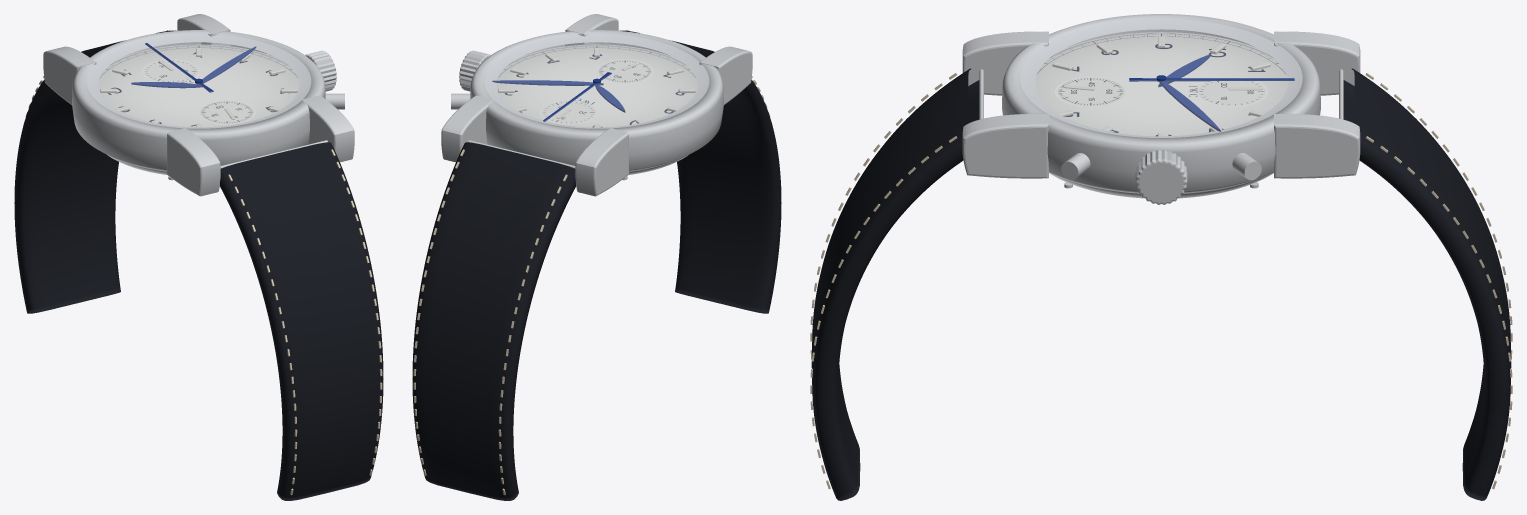
File: iwc-portugieser-chronograph.glb
3 views of the same model, side by side, from view 1: azimuth 30°, elevation 25°; view 2: azimuth 150°, elevation 25°; view 3: azimuth 270°, elevation 25° (orthographic). The views are drawn at different scales.
Visible parts, largest first — view 1: Ремешок 6 часов, Корпус, Ремешок 12 часов, Стекло, Циферблат, Головка; view 2: Ремешок 12 часов, Корпус, Ремешок 6 часов, Стекло, Циферблат, Головка, Минутная стрелка; view 3: Корпус, Стекло, Ремешок 12 часов, Ремешок 6 часов, Циферблат, Головка, Задняя крышка.
Boxes of the visible parts, x1=… form: Ремешок 6 часов: x1=220, y1=142, x2=383, y2=500; Корпус: x1=43, y1=14, x2=354, y2=196; Ремешок 12 часов: x1=14, y1=30, x2=176, y2=313; Стекло: x1=87, y1=34, x2=310, y2=128; Циферблат: x1=98, y1=44, x2=299, y2=127; Головка: x1=305, y1=50, x2=336, y2=91; Ремешок 12 часов: x1=412, y1=142, x2=575, y2=500; Корпус: x1=441, y1=14, x2=752, y2=196; Ремешок 6 часов: x1=619, y1=30, x2=781, y2=313; Стекло: x1=485, y1=34, x2=708, y2=128; Циферблат: x1=496, y1=44, x2=697, y2=127; Головка: x1=459, y1=50, x2=490, y2=91; Минутная стрелка: x1=492, y1=80, x2=603, y2=85; Корпус: x1=962, y1=14, x2=1360, y2=193; Стекло: x1=1020, y1=19, x2=1302, y2=137; Ремешок 12 часов: x1=1343, y1=68, x2=1512, y2=500; Ремешок 6 часов: x1=810, y1=68, x2=979, y2=500; Циферблат: x1=1035, y1=32, x2=1287, y2=136; Головка: x1=1135, y1=149, x2=1187, y2=204; Задняя крышка: x1=1049, y1=172, x2=1273, y2=198.
Size of the model in its own units: 43.22 by 54.9 by 87.65.
Materials: 16 (1 with a texture image).
